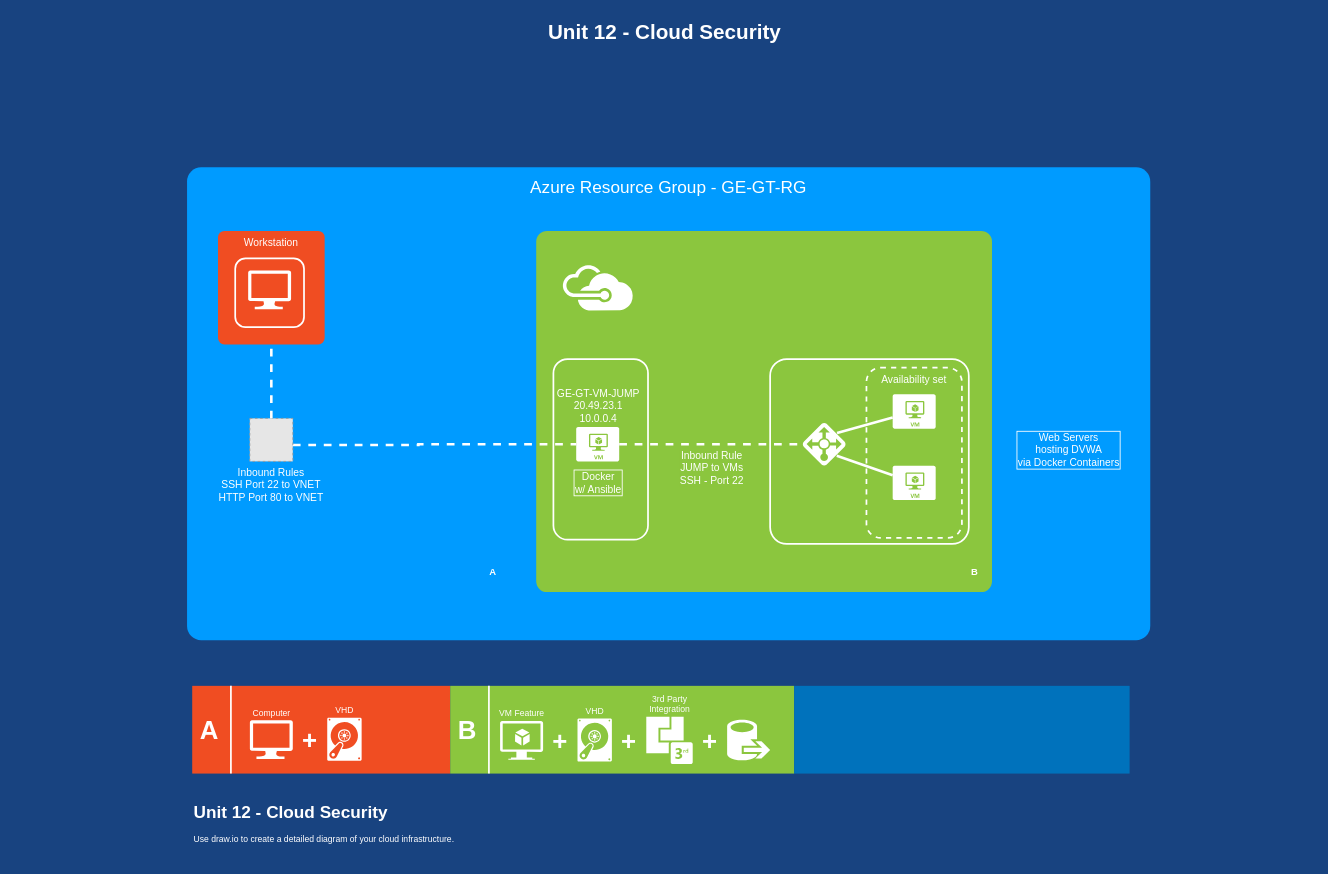
This 1328x874 diagram has some shape labels left out. Grey dashed boxes stand in for pictures. The shapes that lost their labels are listed below. From the top down, each one's centre as x and y in pixels, then its label:
the point at 597,287: AZURE VNET GE-GT-VNET 10.0.0.0/16 Subnet 10.0.0.0/24
the point at 913,411: GE-GT-VM-WEB1 10.0.0.5
the point at 823,443: GE-GT-LB 20.114.156.113
the point at 913,482: GE-GT-VM-WEB2 10.0.0.6
the point at 748,739: Data Migration Wizard
